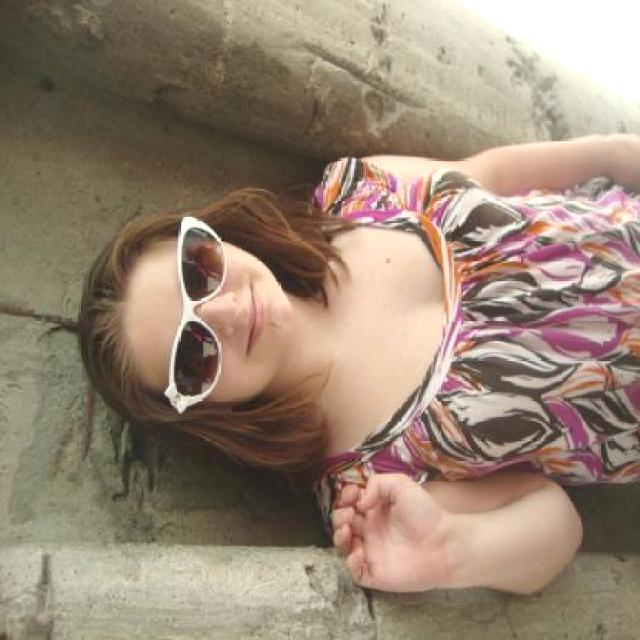face_nomask: (150, 232, 304, 391)
glasses: (145, 220, 238, 426)
hand_noglove: (298, 463, 449, 602)
head_nohelmet: (48, 209, 146, 403)
